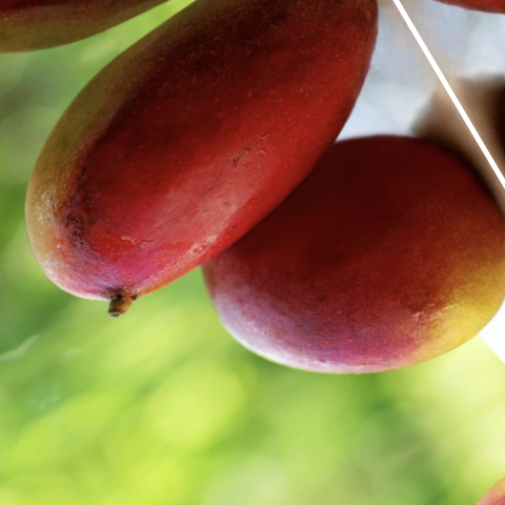mango: (0, 0, 476, 364), (151, 52, 505, 467)
